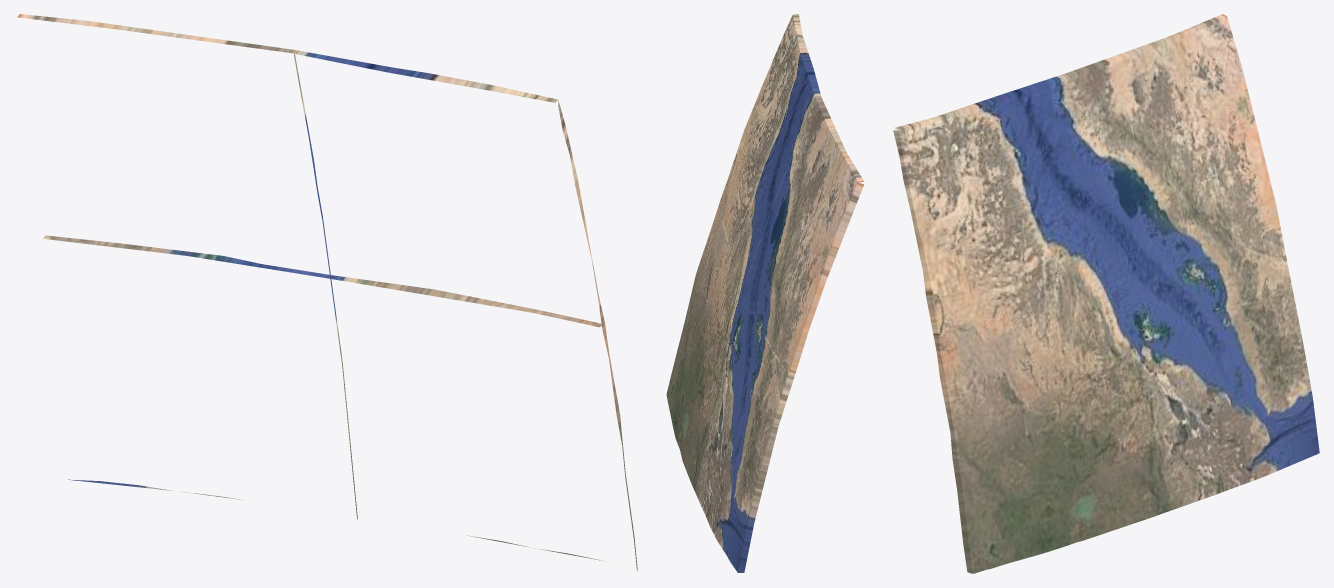
3 views of the same model, side by side, from view 1: azimuth 30°, elevation 25°; view 2: azimuth 150°, elevation 25°; view 3: azimuth 270°, elevation 25° (orthographic). The views are drawn at different scales.
Bounding box in the file's own units: 1053046 × 1206885 × 1163170.
1 material, 1 textured.
